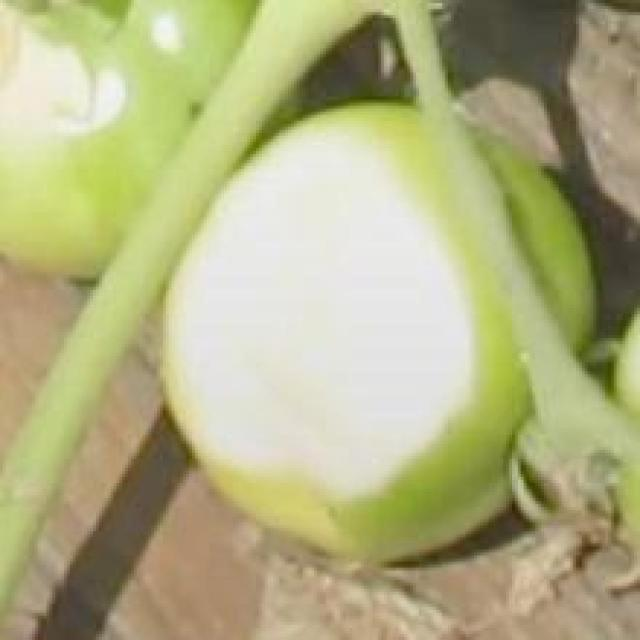Sunscald Fruit: (44, 51, 212, 272)
